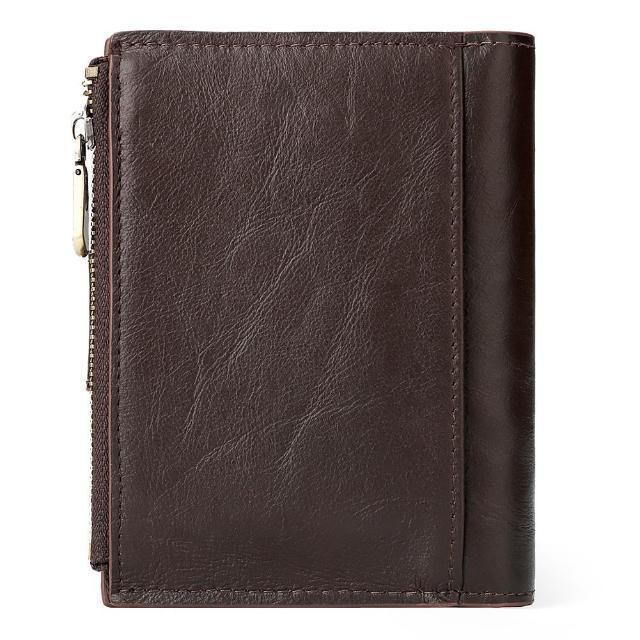wallet: (74, 26, 544, 616)
